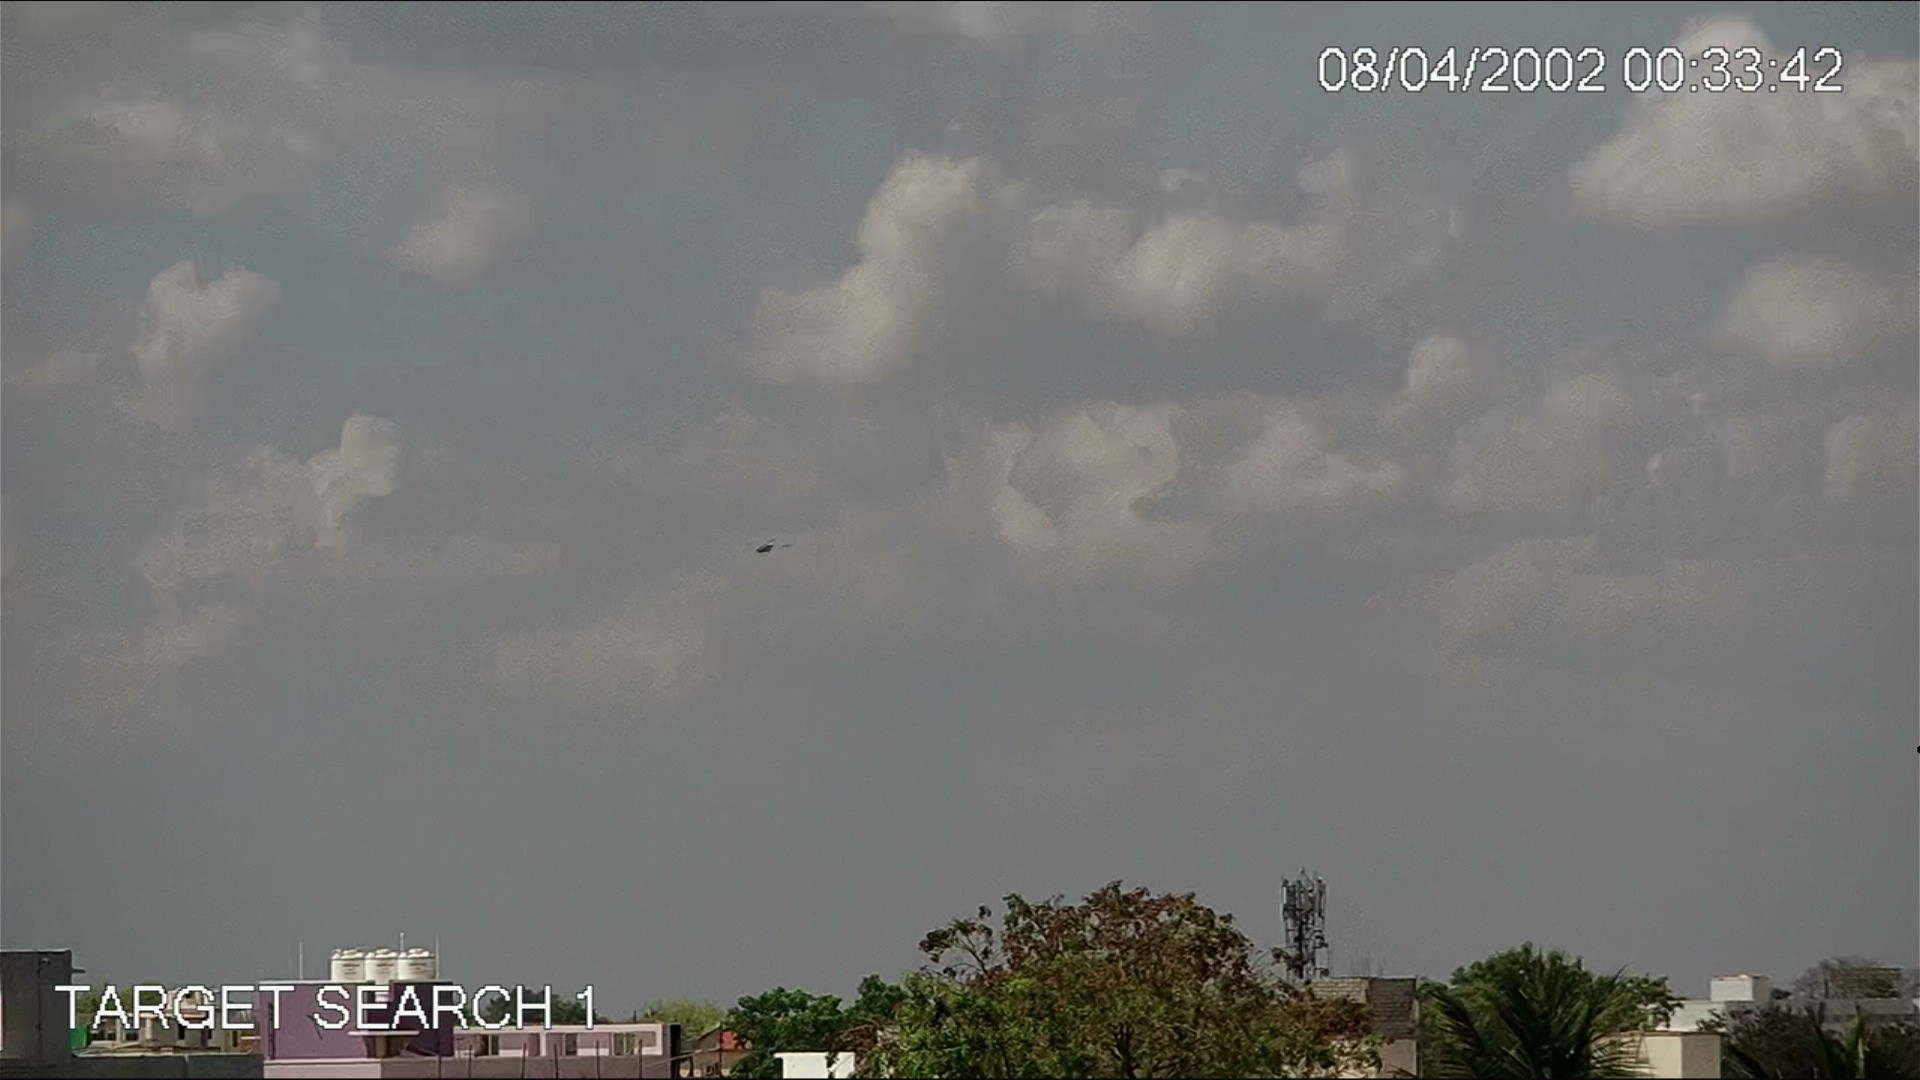SU_30: (749, 535, 795, 556)
